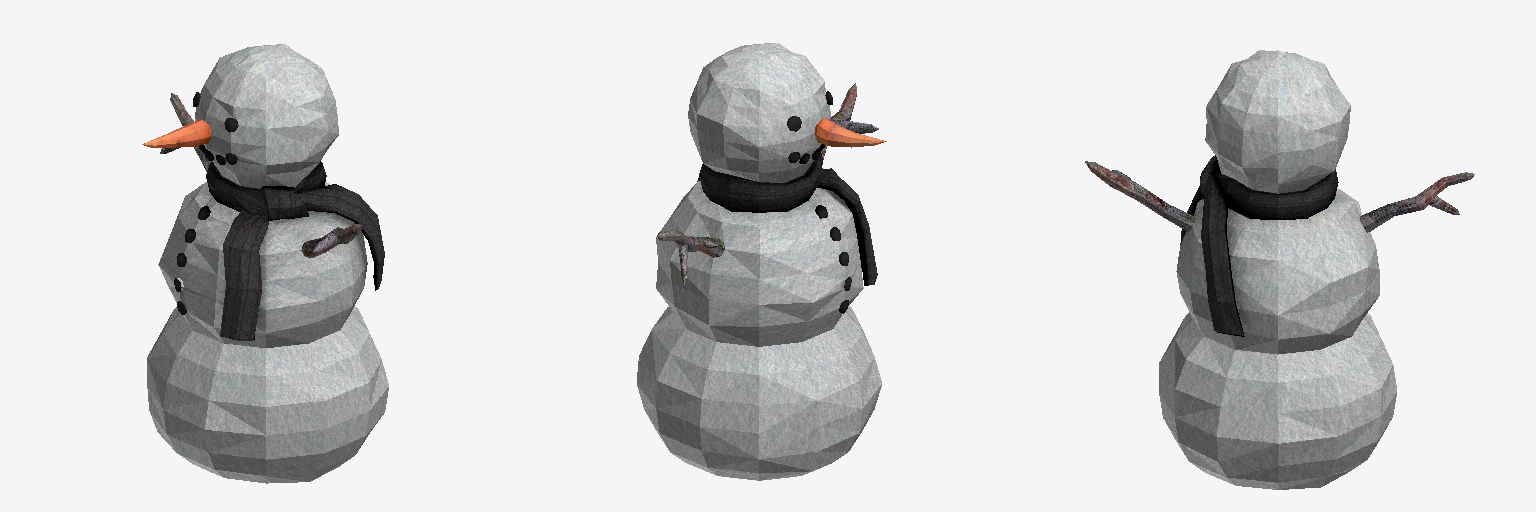
3 views of the same model, side by side, from view 1: azimuth 30°, elevation 25°; view 2: azimuth 150°, elevation 25°; view 3: azimuth 270°, elevation 25° (orthographic).
Parts seen in each view (by area): view 1: snowmanmesh; view 2: snowmanmesh; view 3: snowmanmesh.
Part boxes in pixels (x1,y1,x2,y2): snowmanmesh: (142, 44, 388, 483); snowmanmesh: (637, 43, 886, 480); snowmanmesh: (1085, 50, 1474, 489).
Bounding box in the file's own units: 2.26 × 3.75 × 3.28.
1 materials, 1 textured.